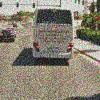buses: (29, 5, 75, 66)
